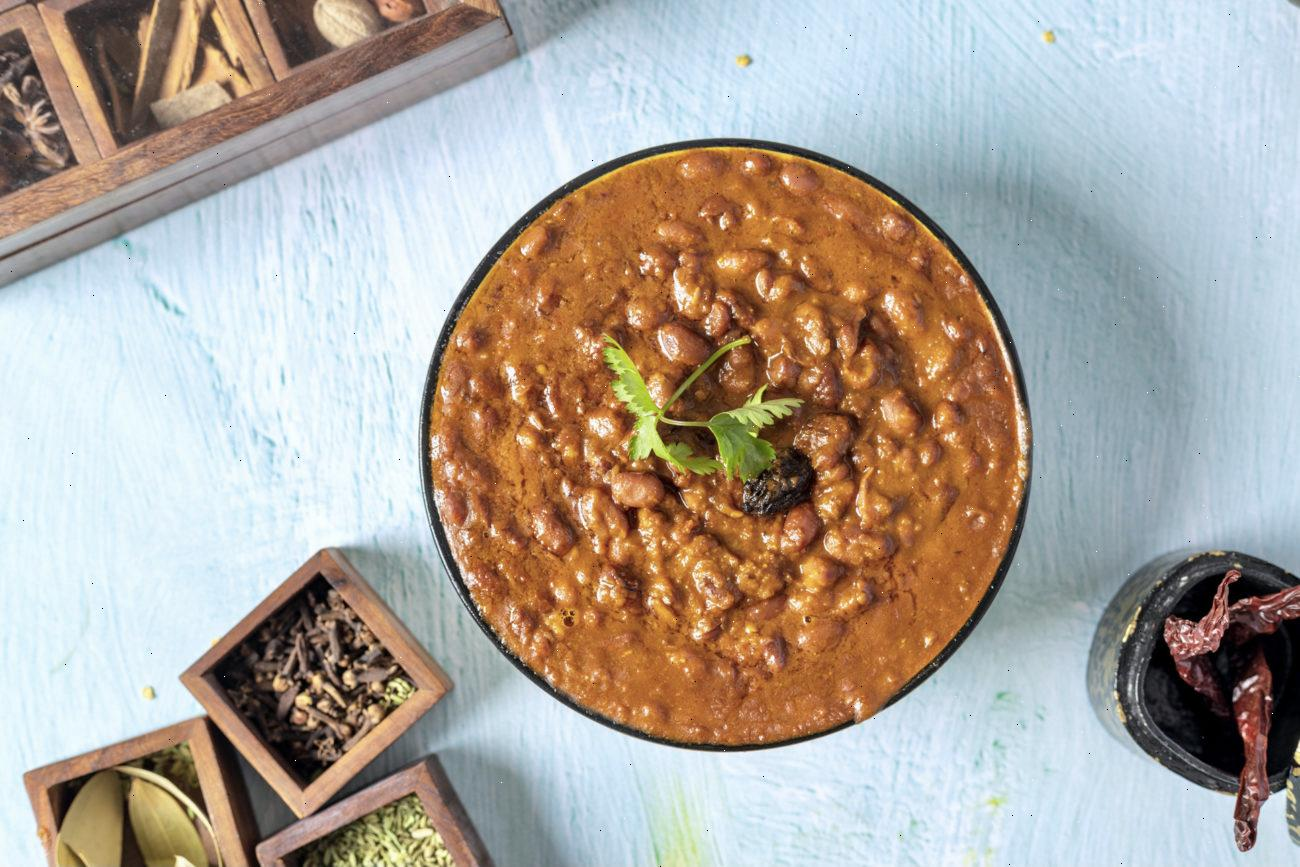rajma: (447, 147, 1050, 772)
